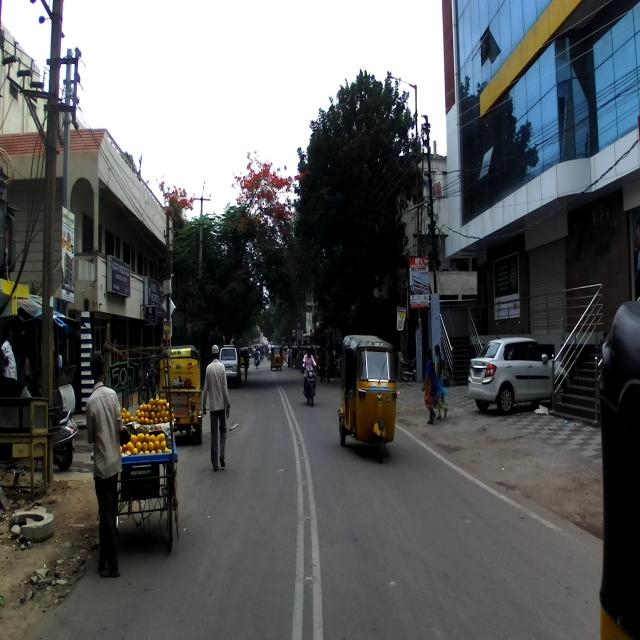Car_Maruti-Suzuki: (467, 337, 568, 416), (217, 344, 240, 388)
autorickshaw: (338, 333, 398, 465)
scooter: (21, 386, 78, 471)
